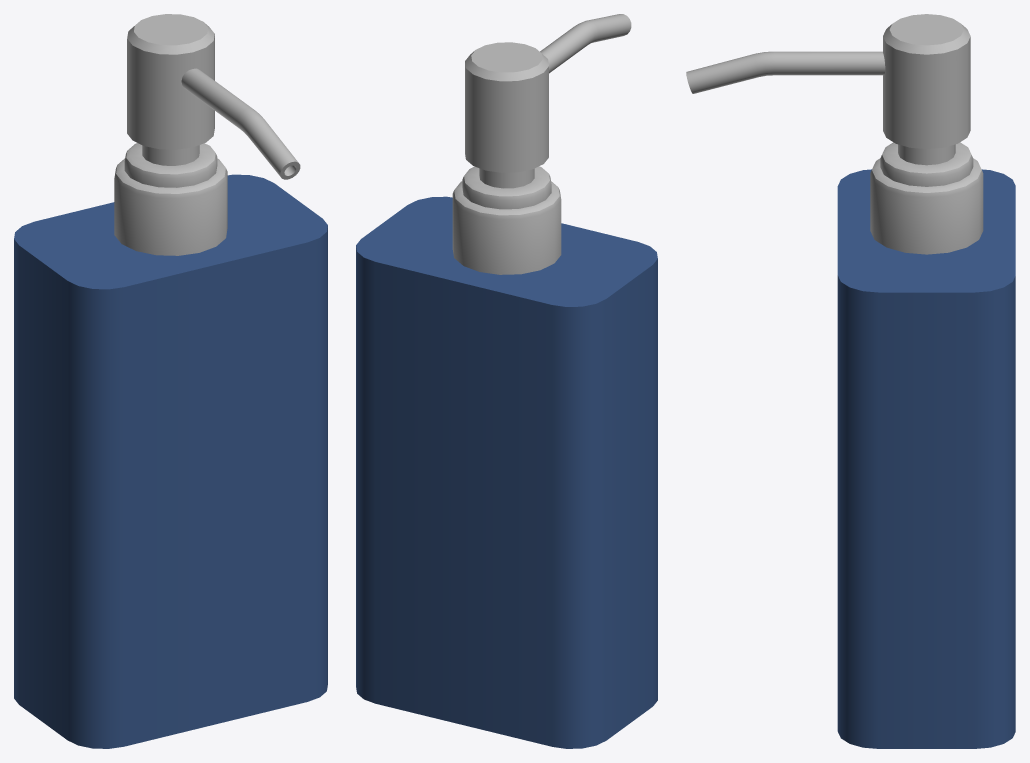
The model's file is sabunluk.fbx.
3 views of the same model, side by side, from view 1: azimuth 30°, elevation 25°; view 2: azimuth 150°, elevation 25°; view 3: azimuth 270°, elevation 25° (orthographic). The views are drawn at different scales.
Visible parts, largest first — view 1: soap_dispenser; view 2: soap_dispenser; view 3: soap_dispenser.
Boxes of the visible parts, box(x1,y1,x2,y2) form: soap_dispenser: box(14, 14, 327, 748); soap_dispenser: box(356, 14, 657, 748); soap_dispenser: box(686, 14, 1015, 748).
Bounding box in the file's own units: 6.45 × 15.98 × 7.26.
